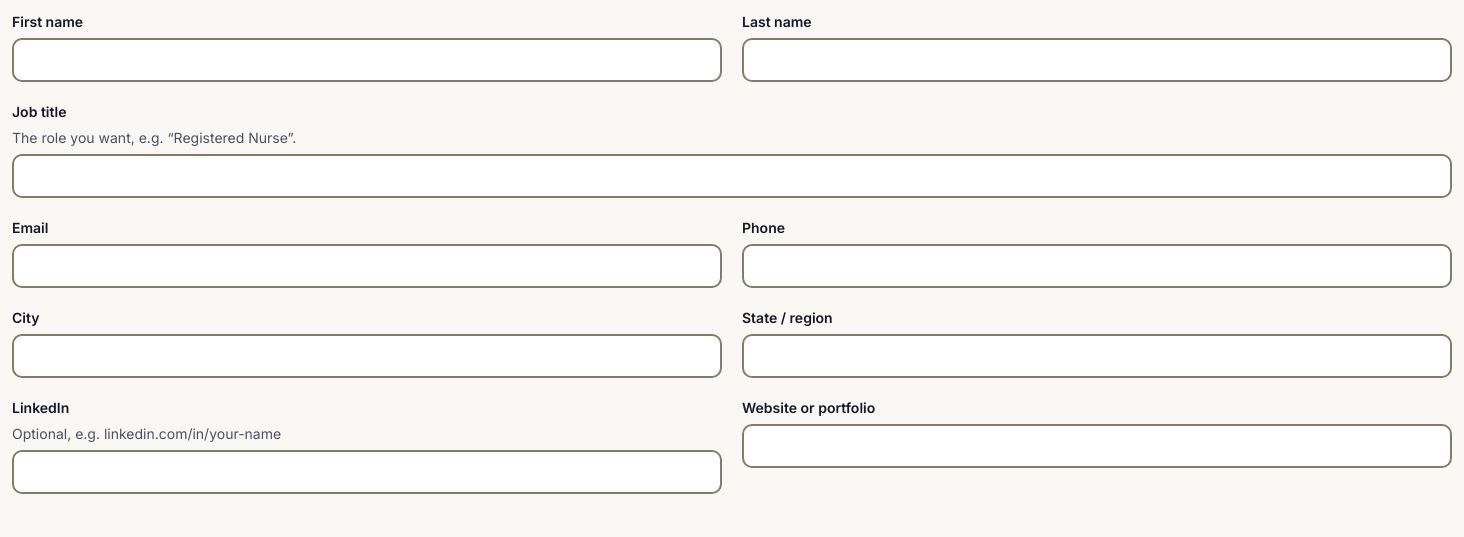
it: ContactForm › writes to the store and validates email on blur
The width and height of the screenshot is (1464, 537).
In the field labelled "First name": (367, 60) [12,38,722,82], type "Ada"
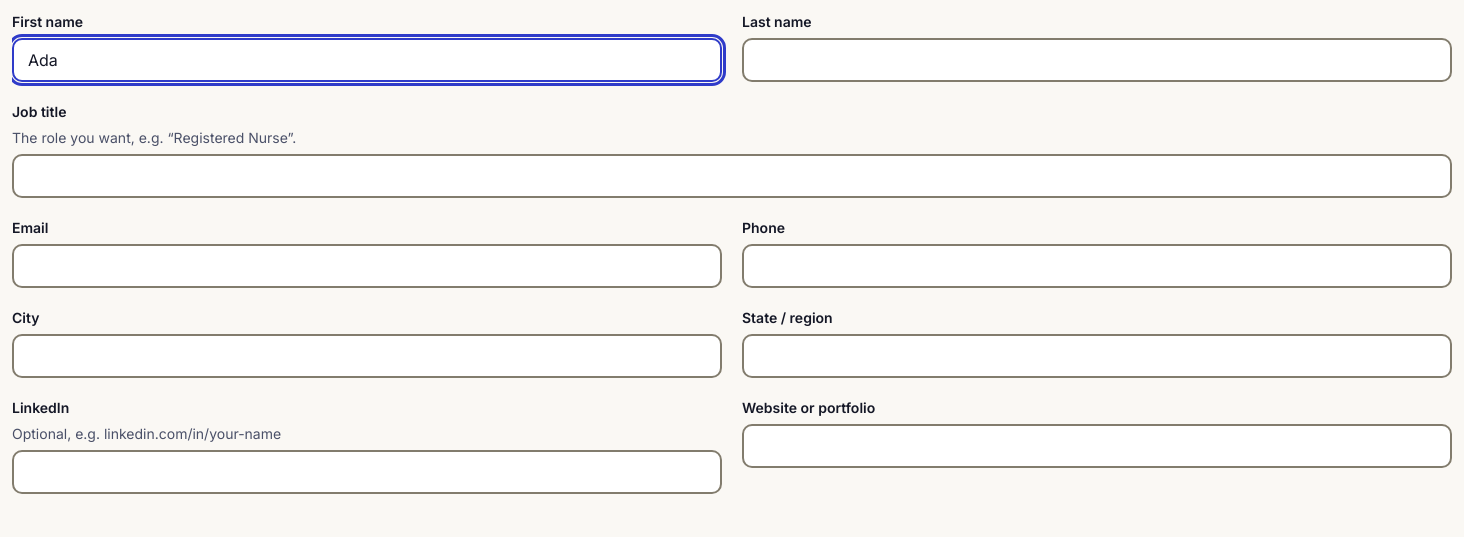
In the field labelled "Email": (367, 266) [12,244,722,288], type "ada@"
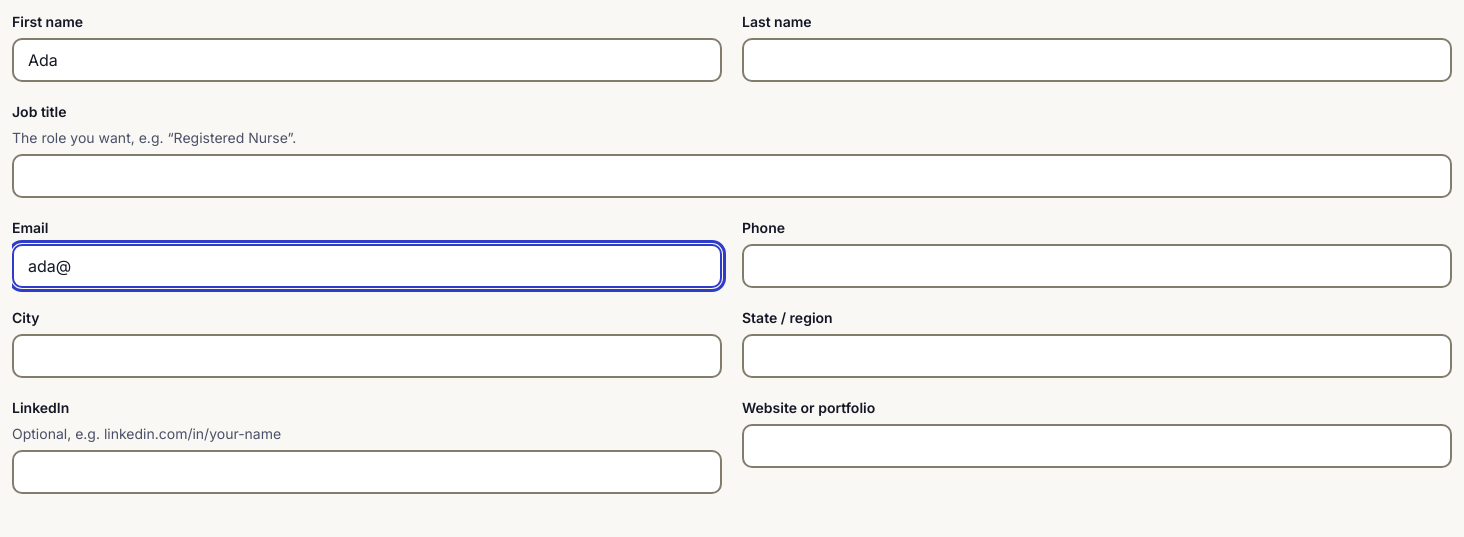
Press Tab
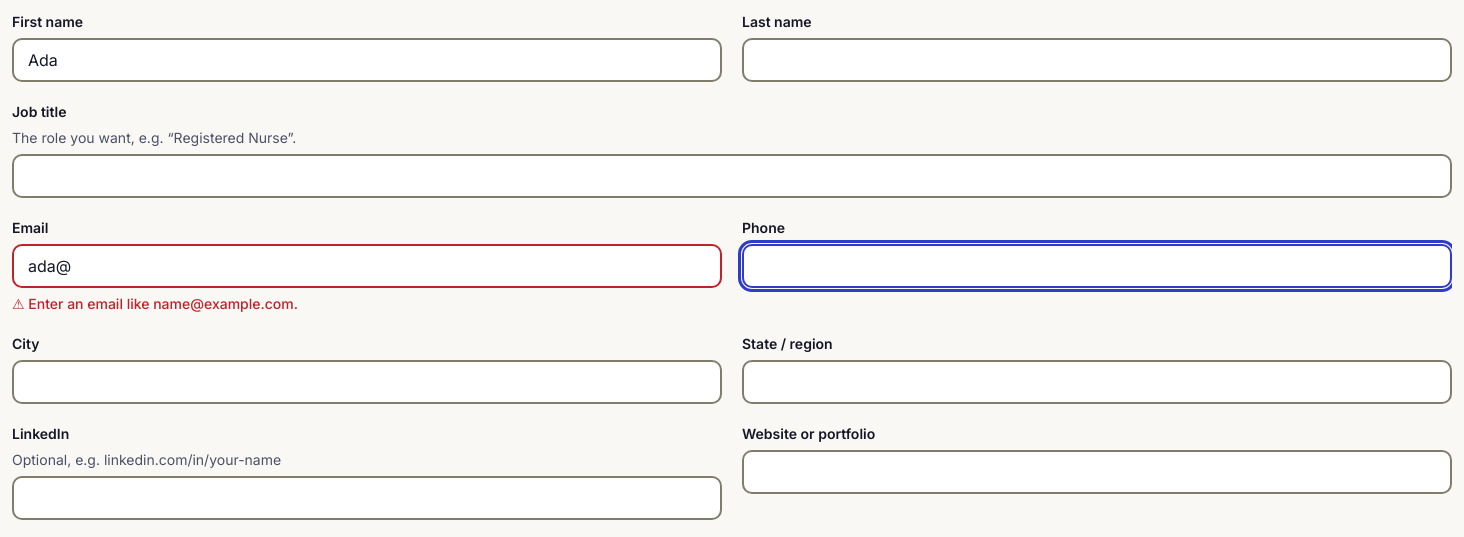
Now the message shows "name@example.com", box [28,295,298,312]
